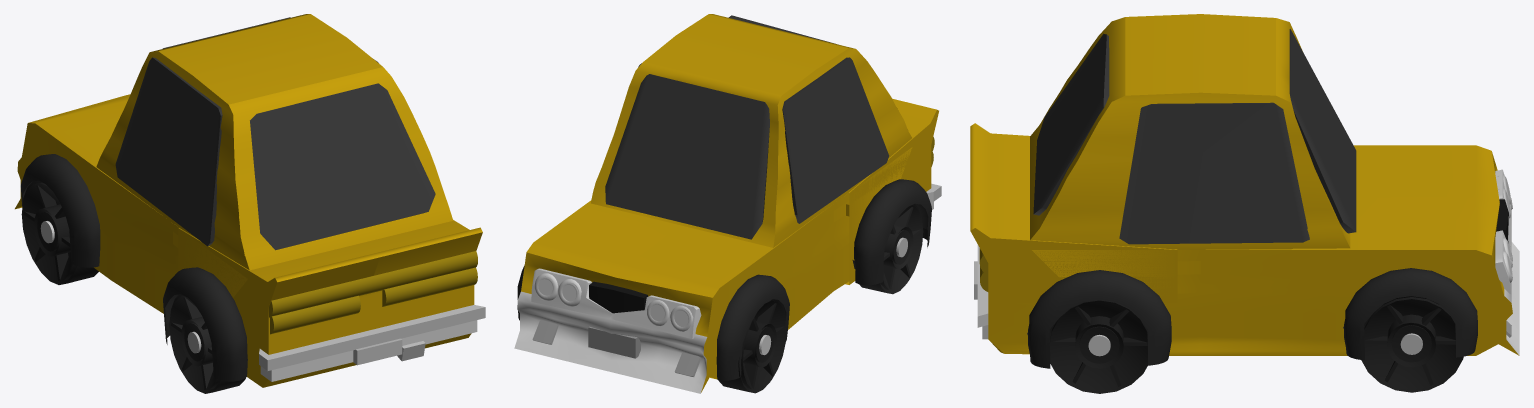
File: carrito.obj
The picture shows the model from 3 angles, left to right: view 1: azimuth 30°, elevation 25°; view 2: azimuth 150°, elevation 25°; view 3: azimuth 270°, elevation 25°; orthographic projection. The views are drawn at different scales.
Visible parts, largest first — view 1: pCube1, pCube6, pCube3, pTorus7, pTorus6, pCylinder6, group2 pCylinder2, pCylinder8, pCylinder9, group1 pCylinder2, pCube14, group2 pCylinder3 (+4 smaller); view 2: pCube1, pCube2, pCube3, pTorus7, pTorus6, group2 pCylinder2, pCube7, pCube8, pCube5, pCube9, group1 pCylinder2, group2 pCylinder3 (+5 smaller); view 3: pCube1, pCube4, pCube2, pTorus4, pCube6, pTorus5, group3 pCylinder2, group4 pCylinder2, group4 pCylinder3, group3 pCylinder3, group4 pCylinder4, group3 pCylinder4 (+2 smaller).
Boxes of the visible parts, x1,y1,x2,y2 form: pCube1: (15, 14, 485, 387); pCube6: (250, 83, 435, 250); pCube3: (115, 57, 222, 246); pTorus7: (163, 267, 247, 381); pTorus6: (20, 154, 100, 267); pCylinder6: (269, 251, 477, 317); group2 pCylinder2: (21, 182, 76, 281); pCylinder8: (382, 267, 477, 306); pCylinder9: (270, 295, 360, 334); group1 pCylinder2: (169, 296, 220, 390); pCube14: (353, 338, 402, 365); group2 pCylinder3: (34, 204, 70, 256); pCube1: (514, 14, 941, 393); pCube2: (605, 74, 769, 239); pCube3: (782, 57, 889, 223); pTorus7: (852, 179, 931, 285); pTorus6: (716, 274, 789, 380); group2 pCylinder2: (741, 300, 785, 390); pCube7: (610, 295, 701, 338); pCube8: (589, 281, 648, 313); pCube5: (531, 268, 612, 318); pCube9: (588, 326, 640, 358); group1 pCylinder2: (880, 205, 923, 291); group2 pCylinder3: (743, 320, 776, 367); pCube1: (970, 14, 1519, 355); pCube4: (1119, 102, 1309, 244); pCube2: (1289, 29, 1356, 233); pTorus4: (1027, 270, 1171, 368); pCube6: (1033, 33, 1109, 215); pTorus5: (1343, 268, 1477, 360); group3 pCylinder2: (1049, 300, 1147, 391); group4 pCylinder2: (1364, 297, 1459, 390); group4 pCylinder3: (1387, 314, 1436, 367); group3 pCylinder3: (1075, 316, 1123, 368); group4 pCylinder4: (1391, 325, 1431, 362); group3 pCylinder4: (1079, 326, 1119, 363).
Bounding box in the file's own units: 10.85 × 10.86 × 19.21.
